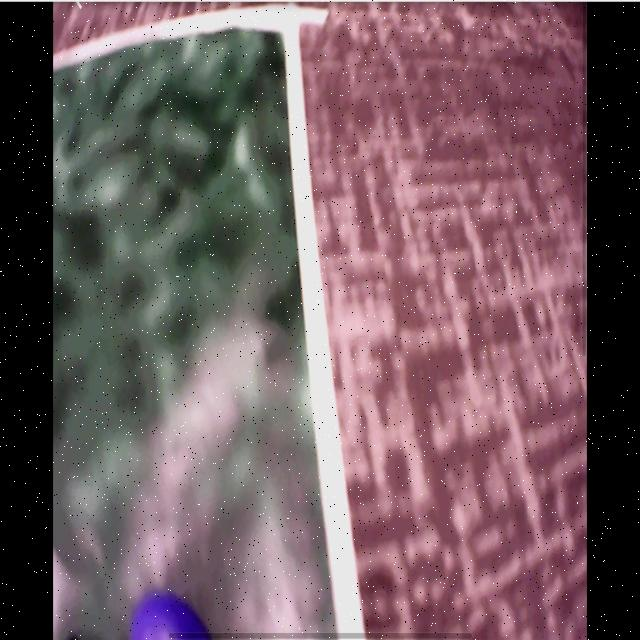ball: (127, 594, 208, 638)
